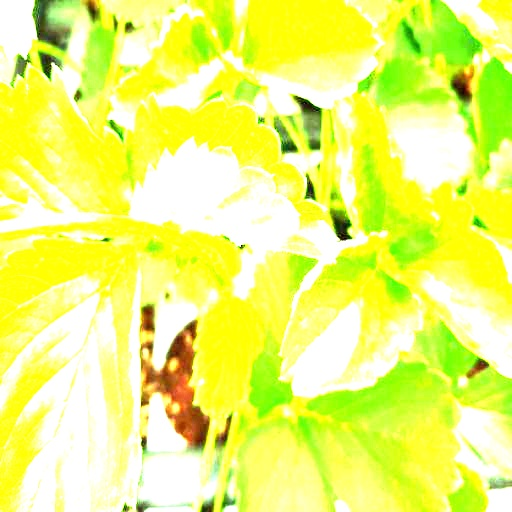Powdery Mildew Leaf: (123, 90, 343, 259), (277, 231, 425, 400), (0, 62, 133, 241), (106, 4, 242, 129)
